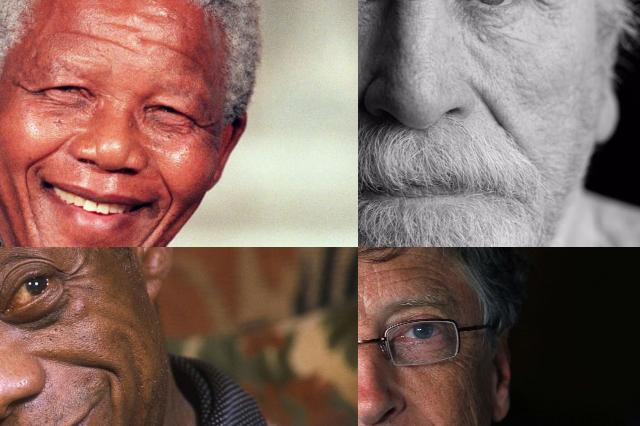crows_feet: (62, 260, 94, 293), (10, 76, 42, 98), (197, 113, 219, 139)
forehead: (140, 32, 198, 70), (70, 25, 128, 55), (398, 260, 440, 290), (358, 263, 387, 294)
gummy_smile: (43, 348, 127, 384), (35, 128, 69, 164), (474, 93, 506, 128), (156, 170, 178, 206), (358, 94, 368, 133)
masseter: (459, 385, 480, 426)
sad_smile: (20, 182, 44, 242), (137, 214, 163, 247)
